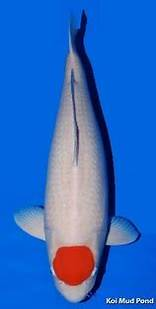sun: (13, 9, 139, 303)
